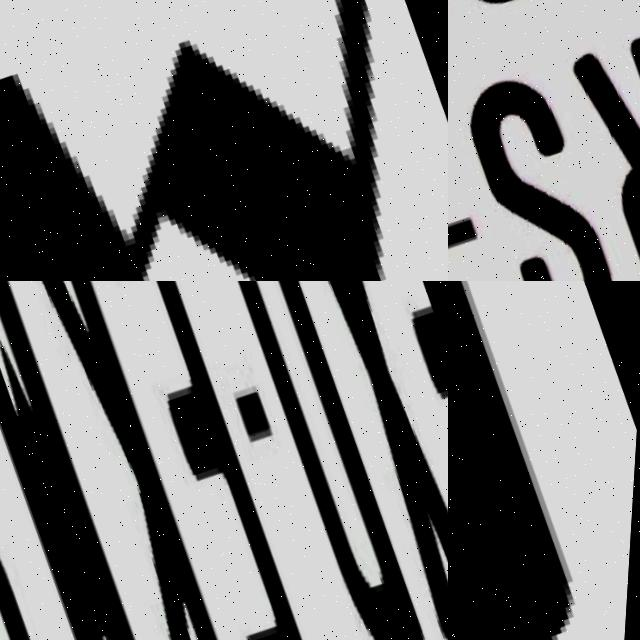8: (0, 281, 109, 640)
D: (157, 281, 448, 640)
E: (58, 281, 354, 640), (290, 281, 448, 608)
K: (0, 281, 277, 640)
M: (0, 0, 448, 281), (0, 281, 204, 640)
R: (557, 7, 640, 281)
S: (448, 55, 640, 281)
X: (226, 281, 448, 637)
